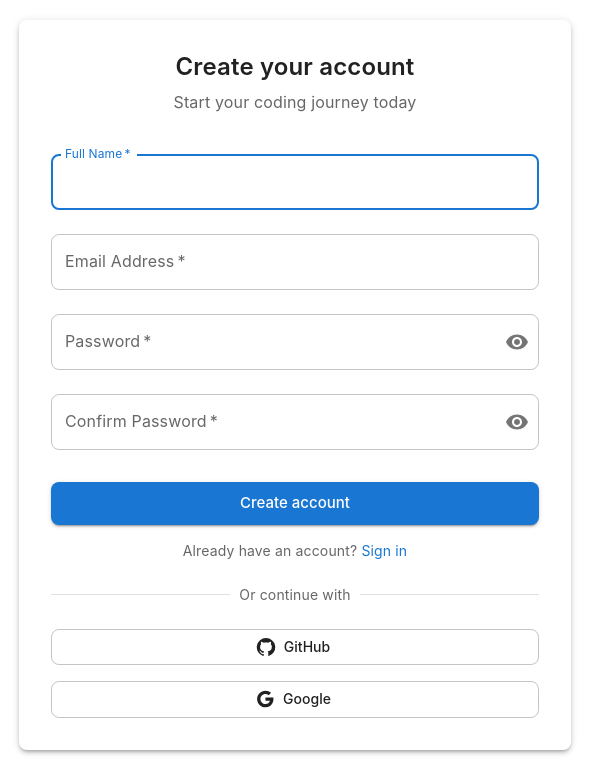
RegisterPage › should show validation error for short name
Step 1. Type "A" into the field labelled "Full Name *" → (295, 182), box top-left (51, 154), bottom-right (539, 210)
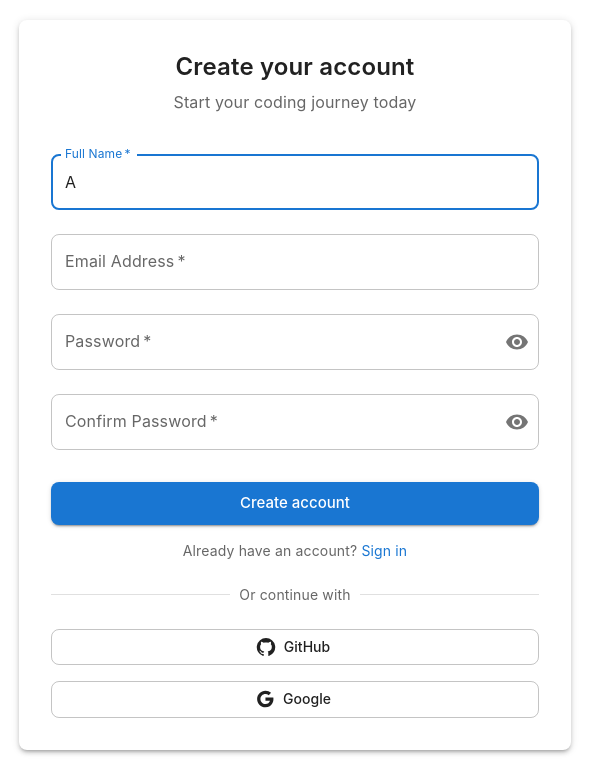
Step 2. Click the button "Create account" → (295, 504), box top-left (51, 482), bottom-right (539, 525)
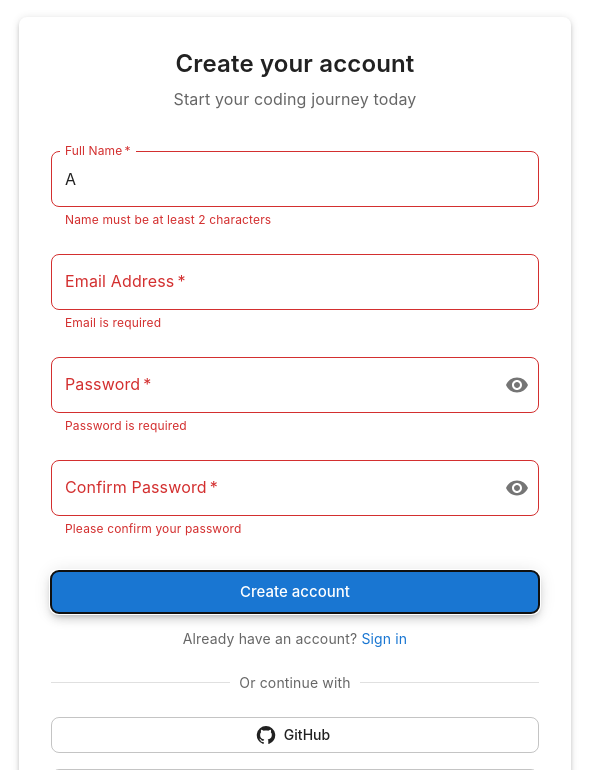
Expected: the text "Name must be at least 2 characters" is shown, top-left (65, 212), bottom-right (271, 227)
